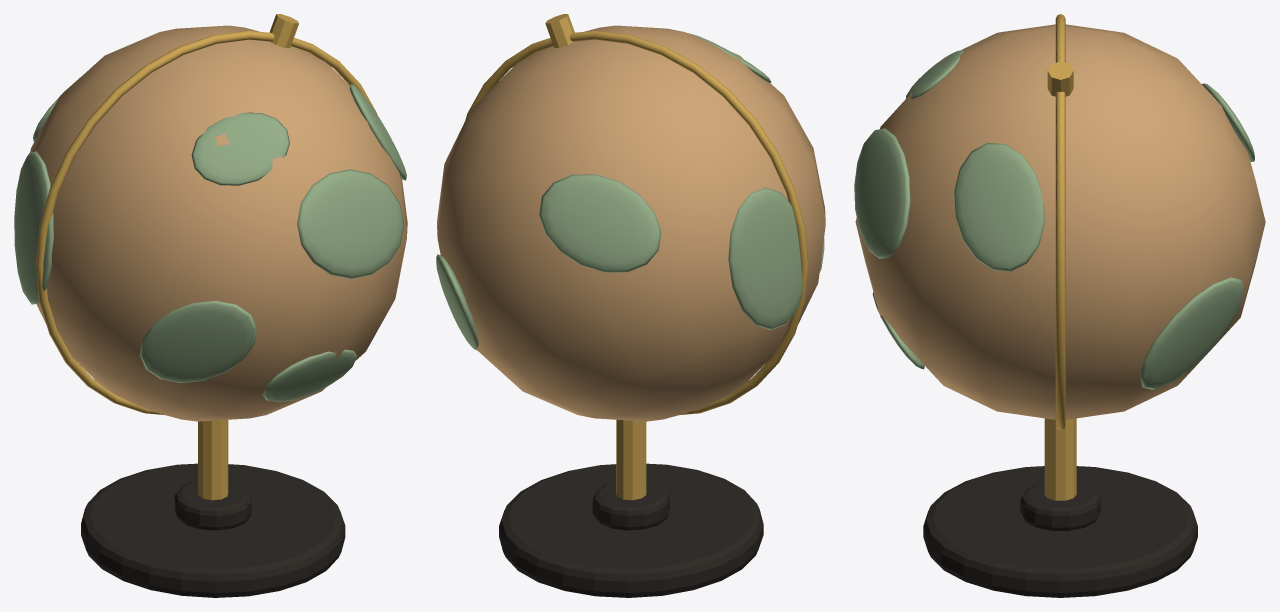
The model's file is hh_cat_globe_office.glb.
3 views of the same model, side by side, from view 1: azimuth 30°, elevation 25°; view 2: azimuth 150°, elevation 25°; view 3: azimuth 270°, elevation 25° (orthographic).
Visible parts, largest first — view 1: globe, stand_base, land, land.001, meridian, land.004, land.005, stand_collar, land.002, stand_stem, land.003, pivot; view 2: globe, stand_base, land.007, land.005, meridian, stand_collar, stand_stem, land.006, pivot; view 3: globe, stand_base, land.003, land, land.006, meridian, stand_collar, stand_stem, land.004, pivot, land.007.
Part boxes in pixels (<box>): globe: <box>30,25,407,421</box>; stand_base: <box>81,463,345,597</box>; land: <box>297,169,404,278</box>; land.001: <box>139,300,257,382</box>; meridian: <box>36,31,377,414</box>; land.004: <box>191,112,289,185</box>; land.005: <box>14,151,53,304</box>; stand_collar: <box>174,481,251,530</box>; land.002: <box>262,349,356,402</box>; stand_stem: <box>198,419,228,500</box>; land.003: <box>350,84,406,180</box>; pivot: <box>269,14,298,48</box>; globe: <box>437,25,825,421</box>; stand_base: <box>499,463,763,597</box>; land.007: <box>539,174,661,272</box>; land.005: <box>728,187,802,330</box>; meridian: <box>465,31,808,414</box>; stand_collar: <box>592,481,669,530</box>; stand_stem: <box>616,419,646,500</box>; land.006: <box>436,254,478,350</box>; pivot: <box>545,14,575,48</box>; globe: <box>855,24,1265,419</box>; stand_base: <box>923,466,1197,597</box>; land.003: <box>954,143,1044,271</box>; land: <box>854,128,910,258</box>; land.006: <box>1139,277,1244,389</box>; meridian: <box>1055,14,1065,430</box>; stand_collar: <box>1020,482,1100,530</box>; stand_stem: <box>1044,418,1076,500</box>; land.004: <box>906,50,963,98</box>; pivot: <box>1047,61,1073,96</box>; land.007: <box>1202,83,1254,161</box>.
Size of the model in its own units: 0.26 by 0.36 by 0.26.
